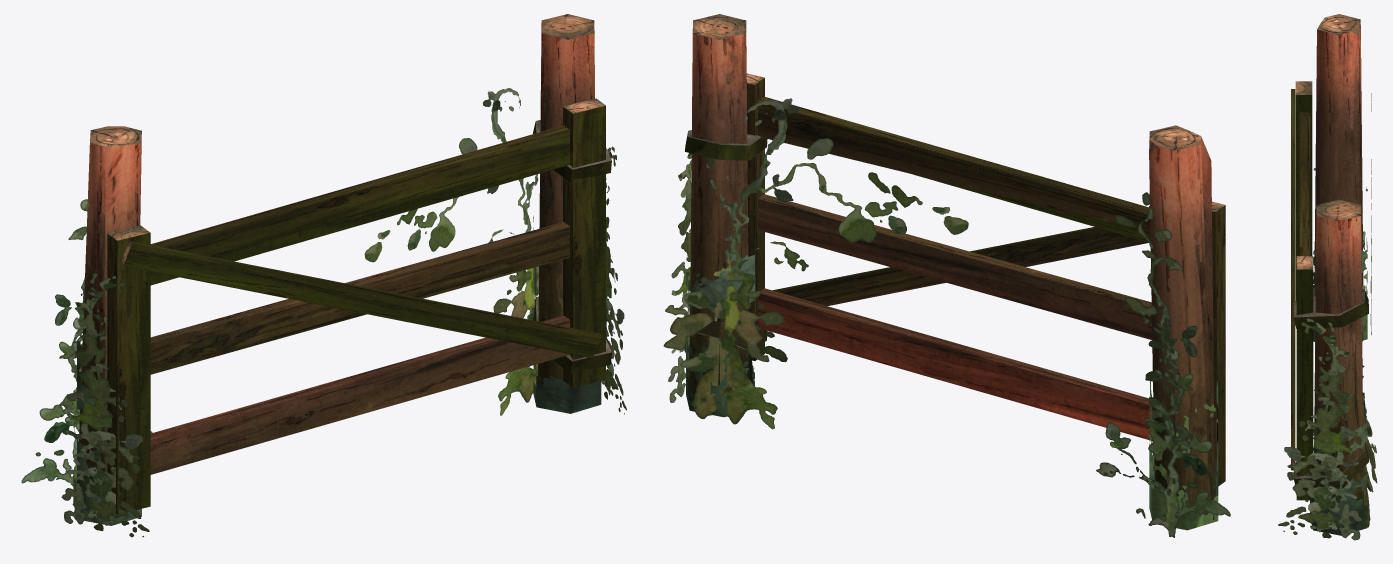
File: fence5.fbx
3 views of the same model, side by side, from view 1: azimuth 30°, elevation 25°; view 2: azimuth 150°, elevation 25°; view 3: azimuth 270°, elevation 25° (orthographic). The views are drawn at different scales.
Visible parts, largest first — view 1: fence5; view 2: fence5; view 3: fence5.
Part boxes in pixels (left/top/right/bottom): fence5: left=21, top=14, right=626, bottom=537; fence5: left=663, top=14, right=1230, bottom=537; fence5: left=1278, top=14, right=1377, bottom=540.
Bounding box in the file's own units: 234 × 151 × 47.54.
